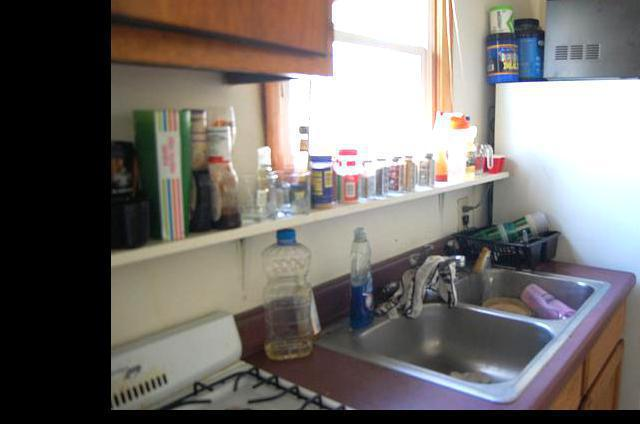Lavaplatos: (331, 252, 628, 402)
